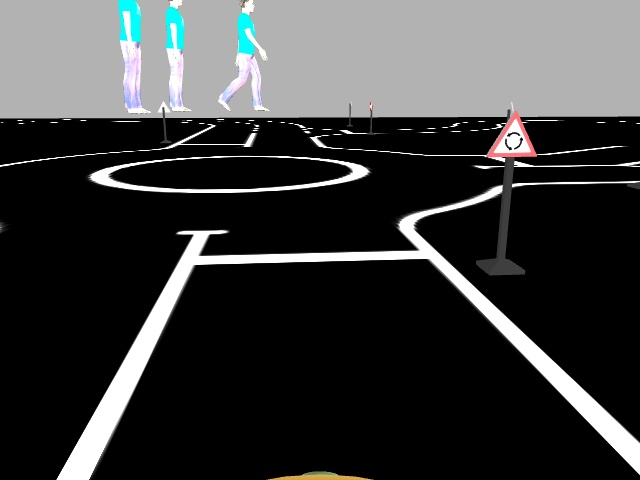Roundabout: (480, 111, 537, 157)
